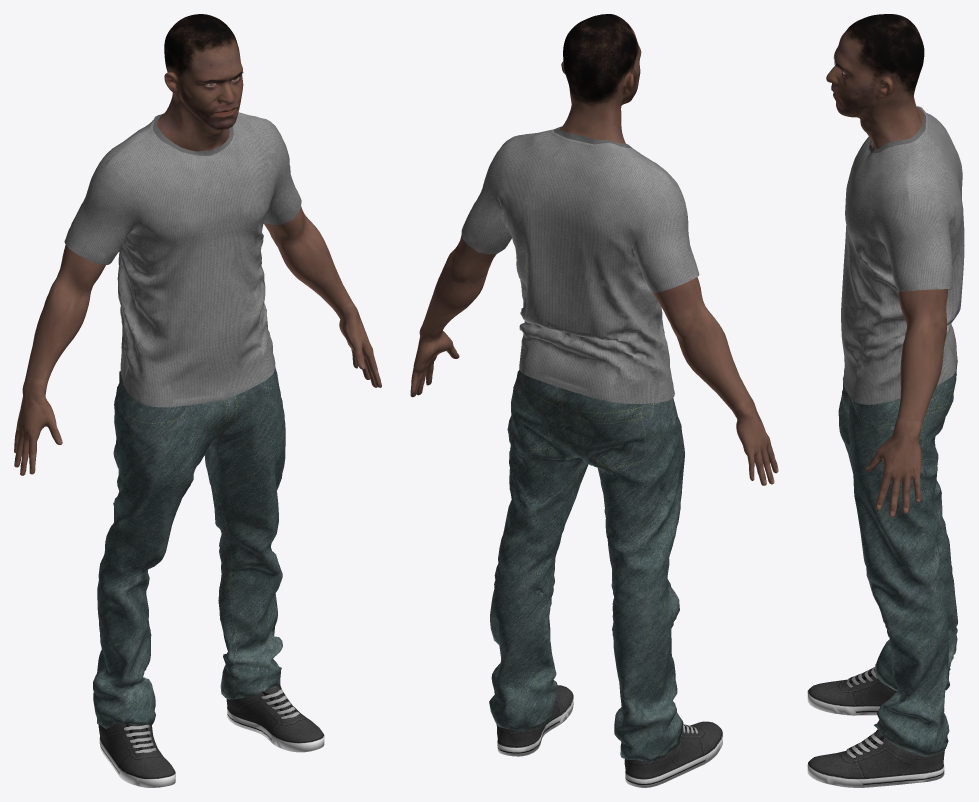
Rendered from piloto_b.glb.
3 renders of one model, left to right at view 1: azimuth 30°, elevation 25°; view 2: azimuth 150°, elevation 25°; view 3: azimuth 270°, elevation 25°, orthographic.
Parts seen in each view (by area): view 1: norm; view 2: norm; view 3: norm.
Part boxes in pixels (left/top/right/bottom): norm: left=14, top=14, right=381, bottom=787; norm: left=410, top=14, right=778, bottom=787; norm: left=807, top=14, right=964, bottom=787.
Size of the model in its own units: 0.8951 by 1.75 by 0.3426.
Materials: 12 (11 with a texture image).
